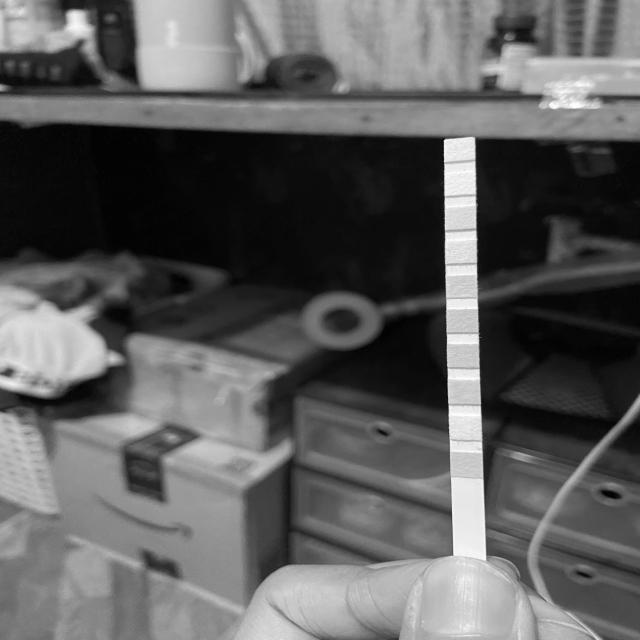Bilirubin: (450, 416, 481, 440)
Blood: (447, 309, 478, 332)
Glucose: (451, 452, 482, 478)
Ketone: (450, 380, 480, 404)
Leukocytes: (444, 140, 475, 159)
Nitrite: (445, 175, 475, 195)
Protein: (446, 242, 477, 262)
SpGravity: (448, 345, 480, 367)
Urobilinogen: (446, 208, 475, 228)
background: (0, 0, 640, 640)
pH: (447, 276, 477, 297)
strip: (444, 136, 486, 561)
